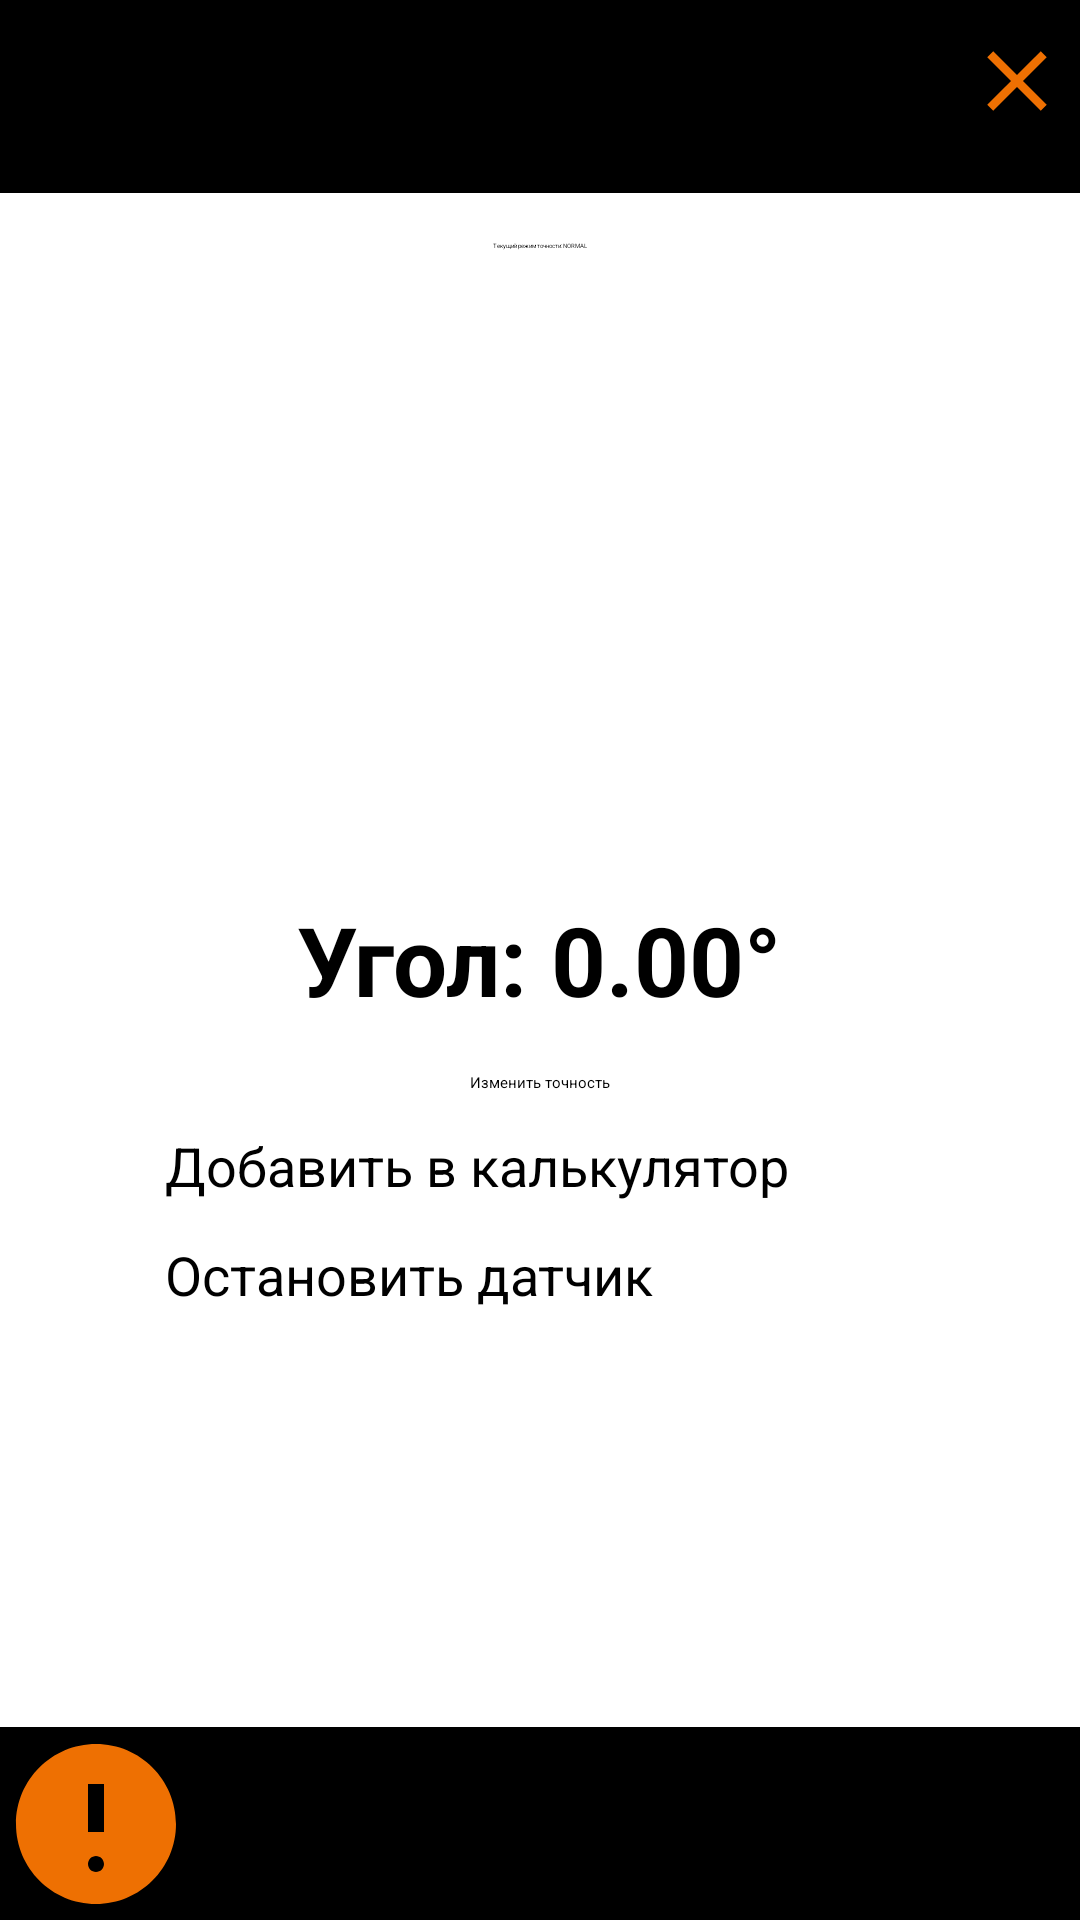

Screen size 1080x1920. Icon name, then its center in pixels as point (x, y):
Закрыть: point (1017, 81)
Информация: point (96, 1824)
